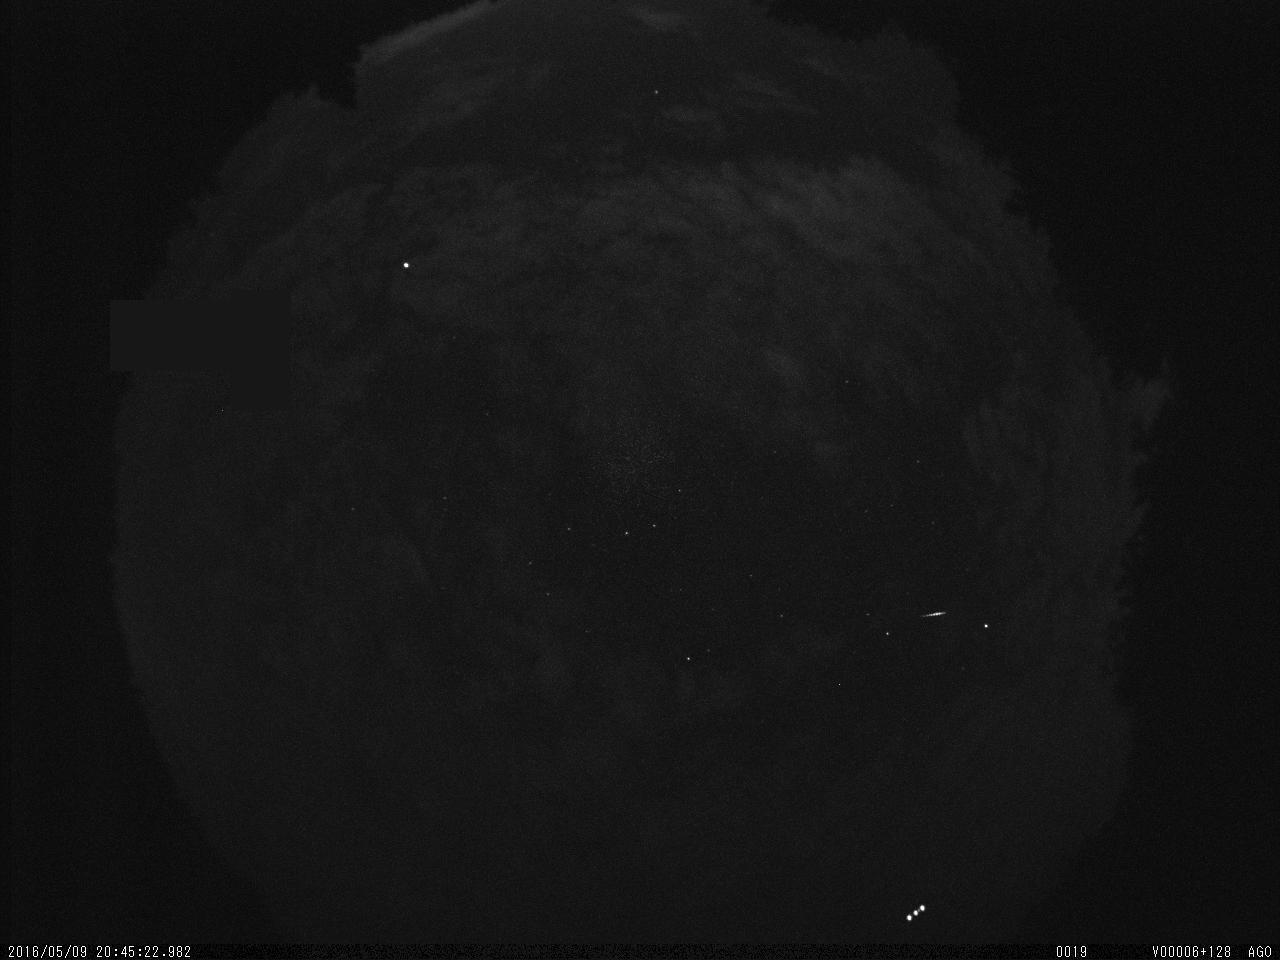meteor: (914, 597, 954, 630)
